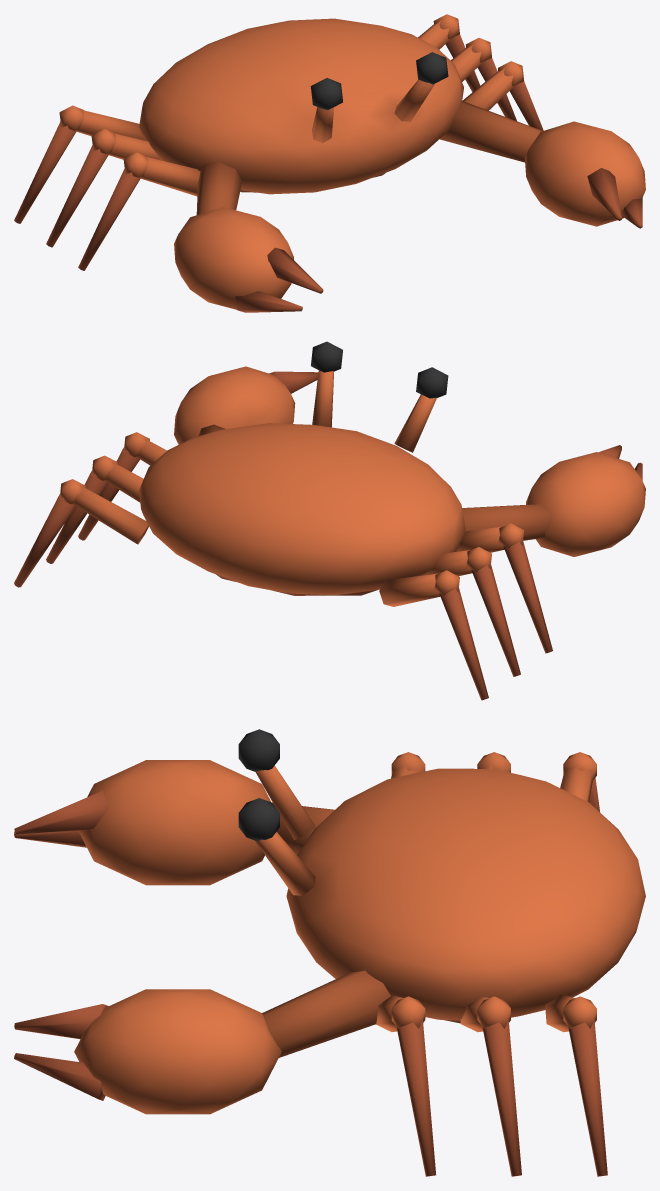
The model's file is crab.a1876a14.glb.
3 views of the same model, one above another, from view 1: azimuth 30°, elevation 25°; view 2: azimuth 150°, elevation 25°; view 3: azimuth 270°, elevation 25° (orthographic). The views are drawn at different scales.
Visible parts, largest first — view 1: body, leg3, leg5, leg4, leg0, leg1, leg2; view 2: body, leg2, leg5, leg3, leg4, leg1, leg0; view 3: body, leg2, leg0, leg1, leg5, leg3.
Boxes of the visible parts, left/top/right/bottom form: body: left=139, top=18, right=645, bottom=312; leg3: left=78, top=152, right=200, bottom=270; leg5: left=14, top=105, right=144, bottom=223; leg4: left=46, top=129, right=161, bottom=247; leg0: left=462, top=61, right=543, bottom=130; leg1: left=451, top=38, right=516, bottom=120; leg2: left=418, top=14, right=480, bottom=92; body: left=139, top=341, right=645, bottom=595; leg2: left=14, top=479, right=148, bottom=587; leg5: left=379, top=570, right=488, bottom=700; leg3: left=456, top=523, right=552, bottom=653; leg4: left=423, top=547, right=520, bottom=676; leg1: left=46, top=455, right=143, bottom=563; leg0: left=78, top=432, right=166, bottom=540; body: left=14, top=729, right=645, bottom=1114; leg2: left=545, top=994, right=607, bottom=1176; leg0: left=376, top=995, right=435, bottom=1176; leg1: left=460, top=996, right=521, bottom=1176; leg5: left=560, top=752, right=600, bottom=812; leg3: left=391, top=752, right=425, bottom=778.
Bounding box in the file's own units: 0.8101 × 0.3198 × 0.6995.
